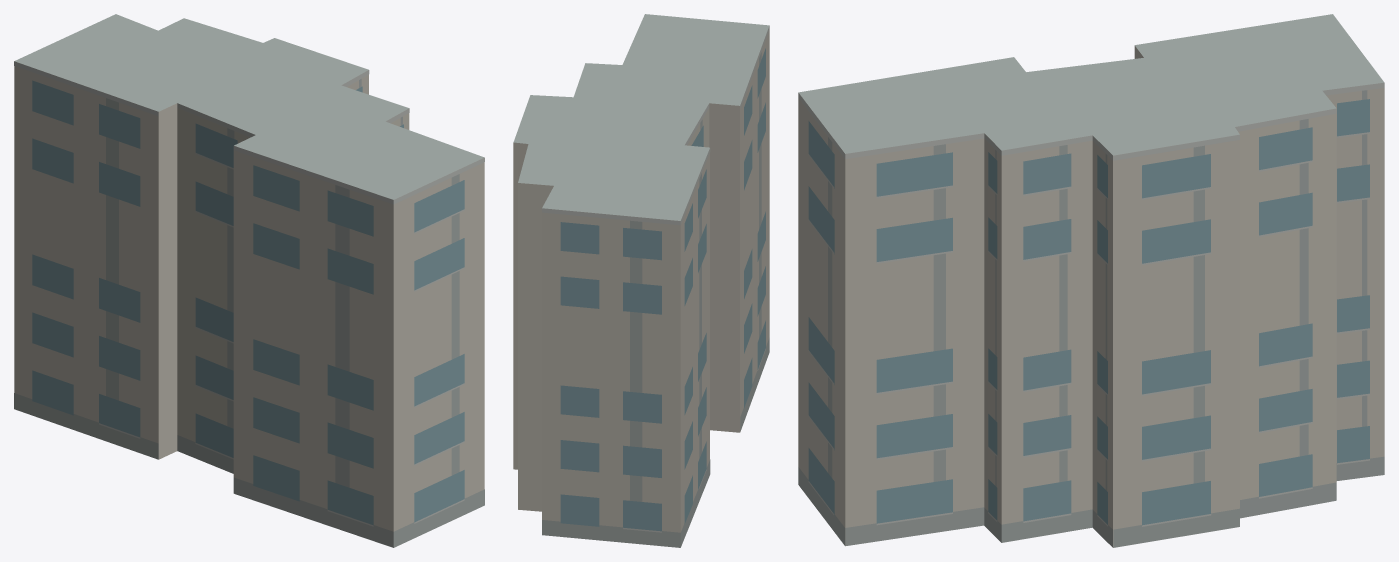
The model's file is survey-upis-32818883.glb.
3 renders of one model, left to right at view 1: azimuth 30°, elevation 25°; view 2: azimuth 150°, elevation 25°; view 3: azimuth 270°, elevation 25°, orthographic. The views are drawn at different scales.
Visible parts, largest first — view 1: survey-upis-32818883.tmp; view 2: survey-upis-32818883.tmp; view 3: survey-upis-32818883.tmp.
Part boxes in pixels (bbox=[...]): survey-upis-32818883.tmp: bbox=[14, 14, 484, 547]; survey-upis-32818883.tmp: bbox=[513, 14, 769, 547]; survey-upis-32818883.tmp: bbox=[798, 14, 1384, 547].
Size of the model in its own units: 14.1 by 18.2 by 24.66.
